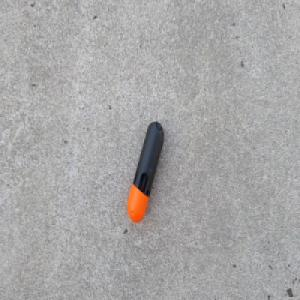PlasticPart: (126, 120, 164, 224)
